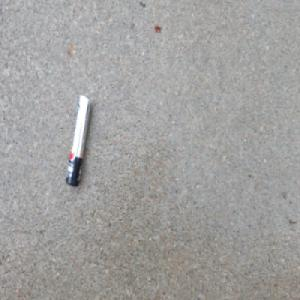Battery: (64, 92, 92, 189)
